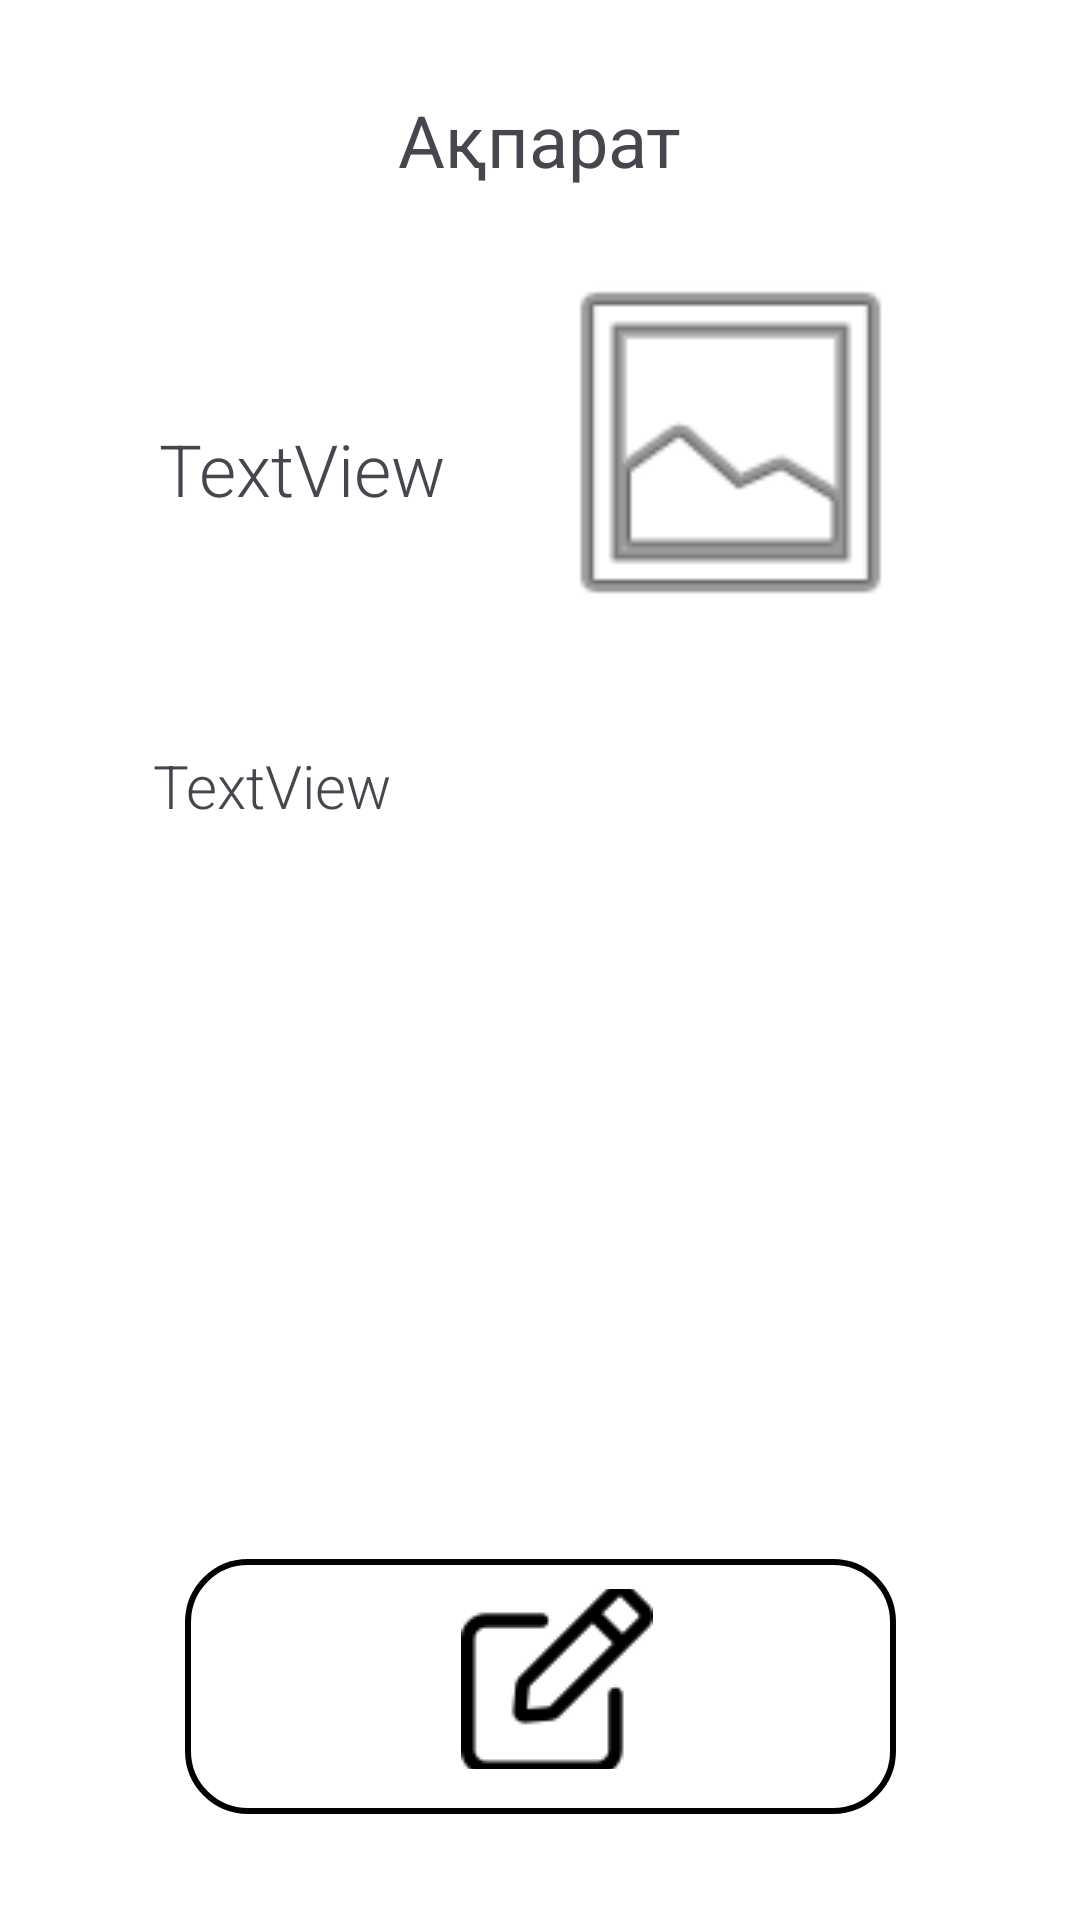

Named icons in this screenshot (1080 x 1920) and their bounding boxes, (x1, y1, x2, y2):
gallery: (580, 292, 881, 593)
